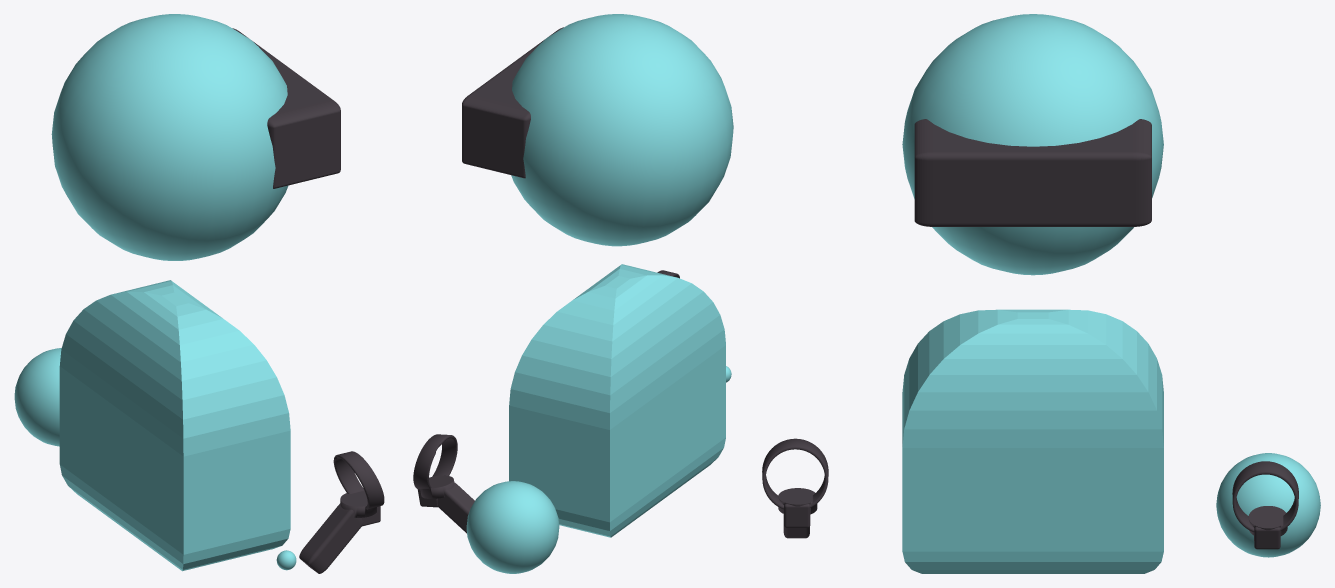
File: dev_model3.fbx
3 renders of one model, left to right at view 1: azimuth 30°, elevation 25°; view 2: azimuth 150°, elevation 25°; view 3: azimuth 270°, elevation 25°, orthographic. The views are drawn at different scales.
Parts seen in each view (by area): view 1: torso, head, headset, right_controller, leftHand; view 2: torso, head, leftHand, headset, left_controller; view 3: torso, head, headset, leftHand, left_controller, right_controller.
Part boxes in pixels (bbox=[...]): torso: bbox=[59, 280, 290, 571]; head: bbox=[51, 14, 288, 260]; headset: bbox=[232, 28, 340, 188]; right_controller: bbox=[299, 451, 384, 573]; leftHand: bbox=[14, 348, 61, 446]; torso: bbox=[509, 264, 725, 537]; head: bbox=[511, 14, 733, 246]; leftHand: bbox=[466, 481, 559, 573]; headset: bbox=[462, 27, 563, 178]; left_controller: bbox=[413, 434, 474, 533]; torso: bbox=[902, 309, 1163, 573]; head: bbox=[902, 14, 1163, 275]; headset: bbox=[914, 119, 1151, 226]; leftHand: bbox=[1216, 453, 1320, 557]; left_controller: bbox=[1232, 461, 1298, 549]; right_controller: bbox=[762, 438, 828, 538].
Size of the model in its own units: 103 by 222 by 214.
